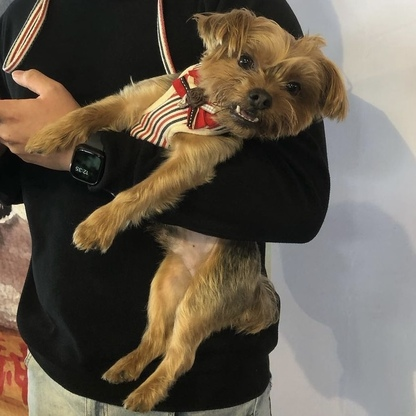yorkshire: (184, 9, 350, 140)
